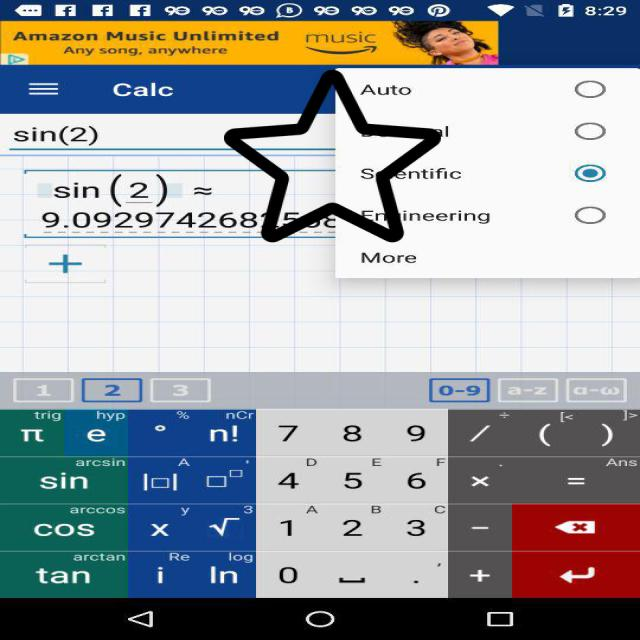forced continuity: (224, 66, 441, 246)
